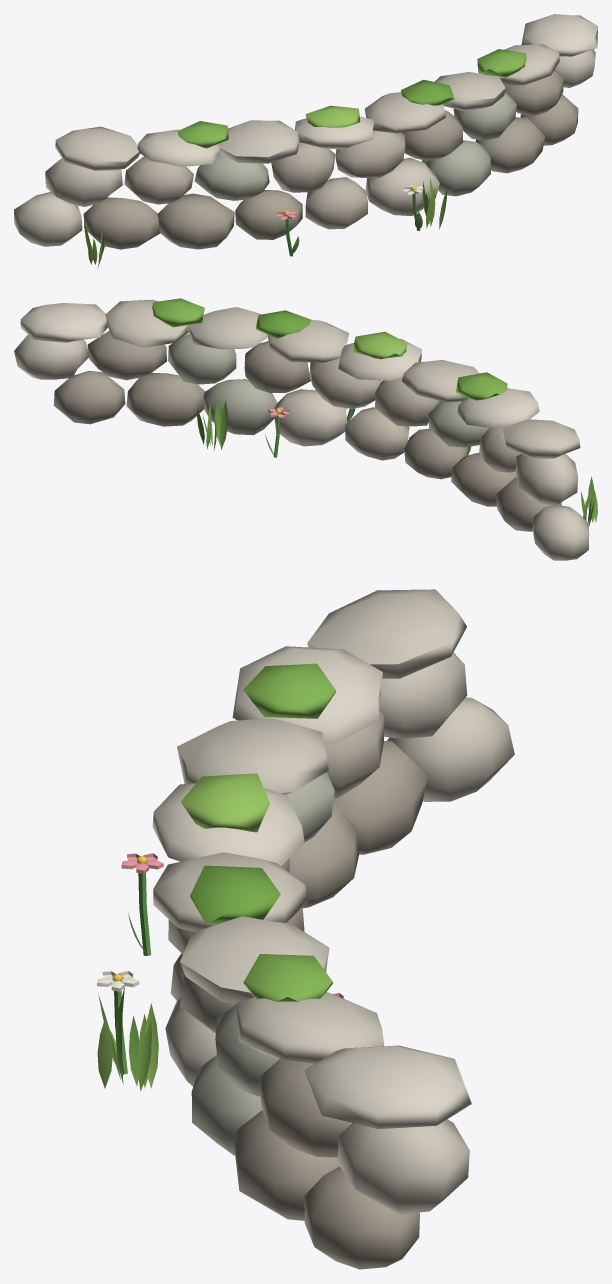
File: stone_wall.glb
3 renders of one model, top to bottom at view 1: azimuth 30°, elevation 25°; view 2: azimuth 150°, elevation 25°; view 3: azimuth 270°, elevation 25°, orthographic. The views are drawn at different scales.
Visible parts, largest first — view 1: Wall; view 2: Wall; view 3: Wall.
Part boxes in pixels (box(x1,y1,x2,y2)): Wall: box(14, 14, 597, 267); Wall: box(14, 298, 597, 560); Wall: box(97, 589, 514, 1269).
Bounding box in the file's own units: 4.08 × 0.8401 × 1.31.
